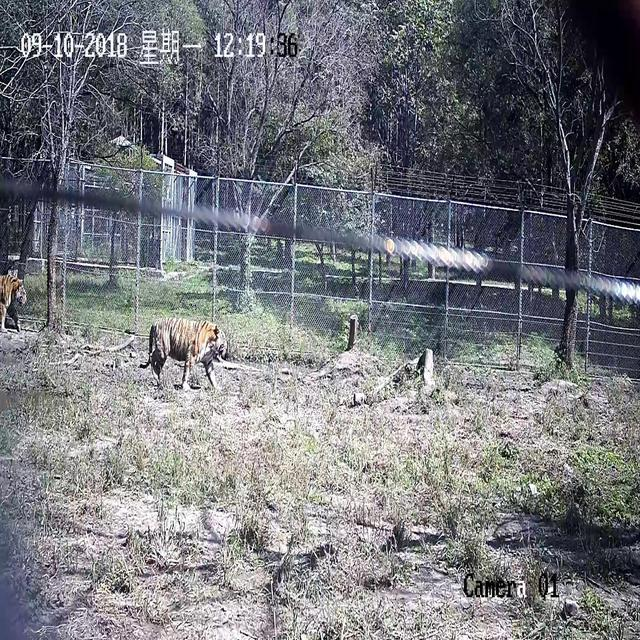tiger: (139, 315, 228, 391), (0, 273, 26, 333)
